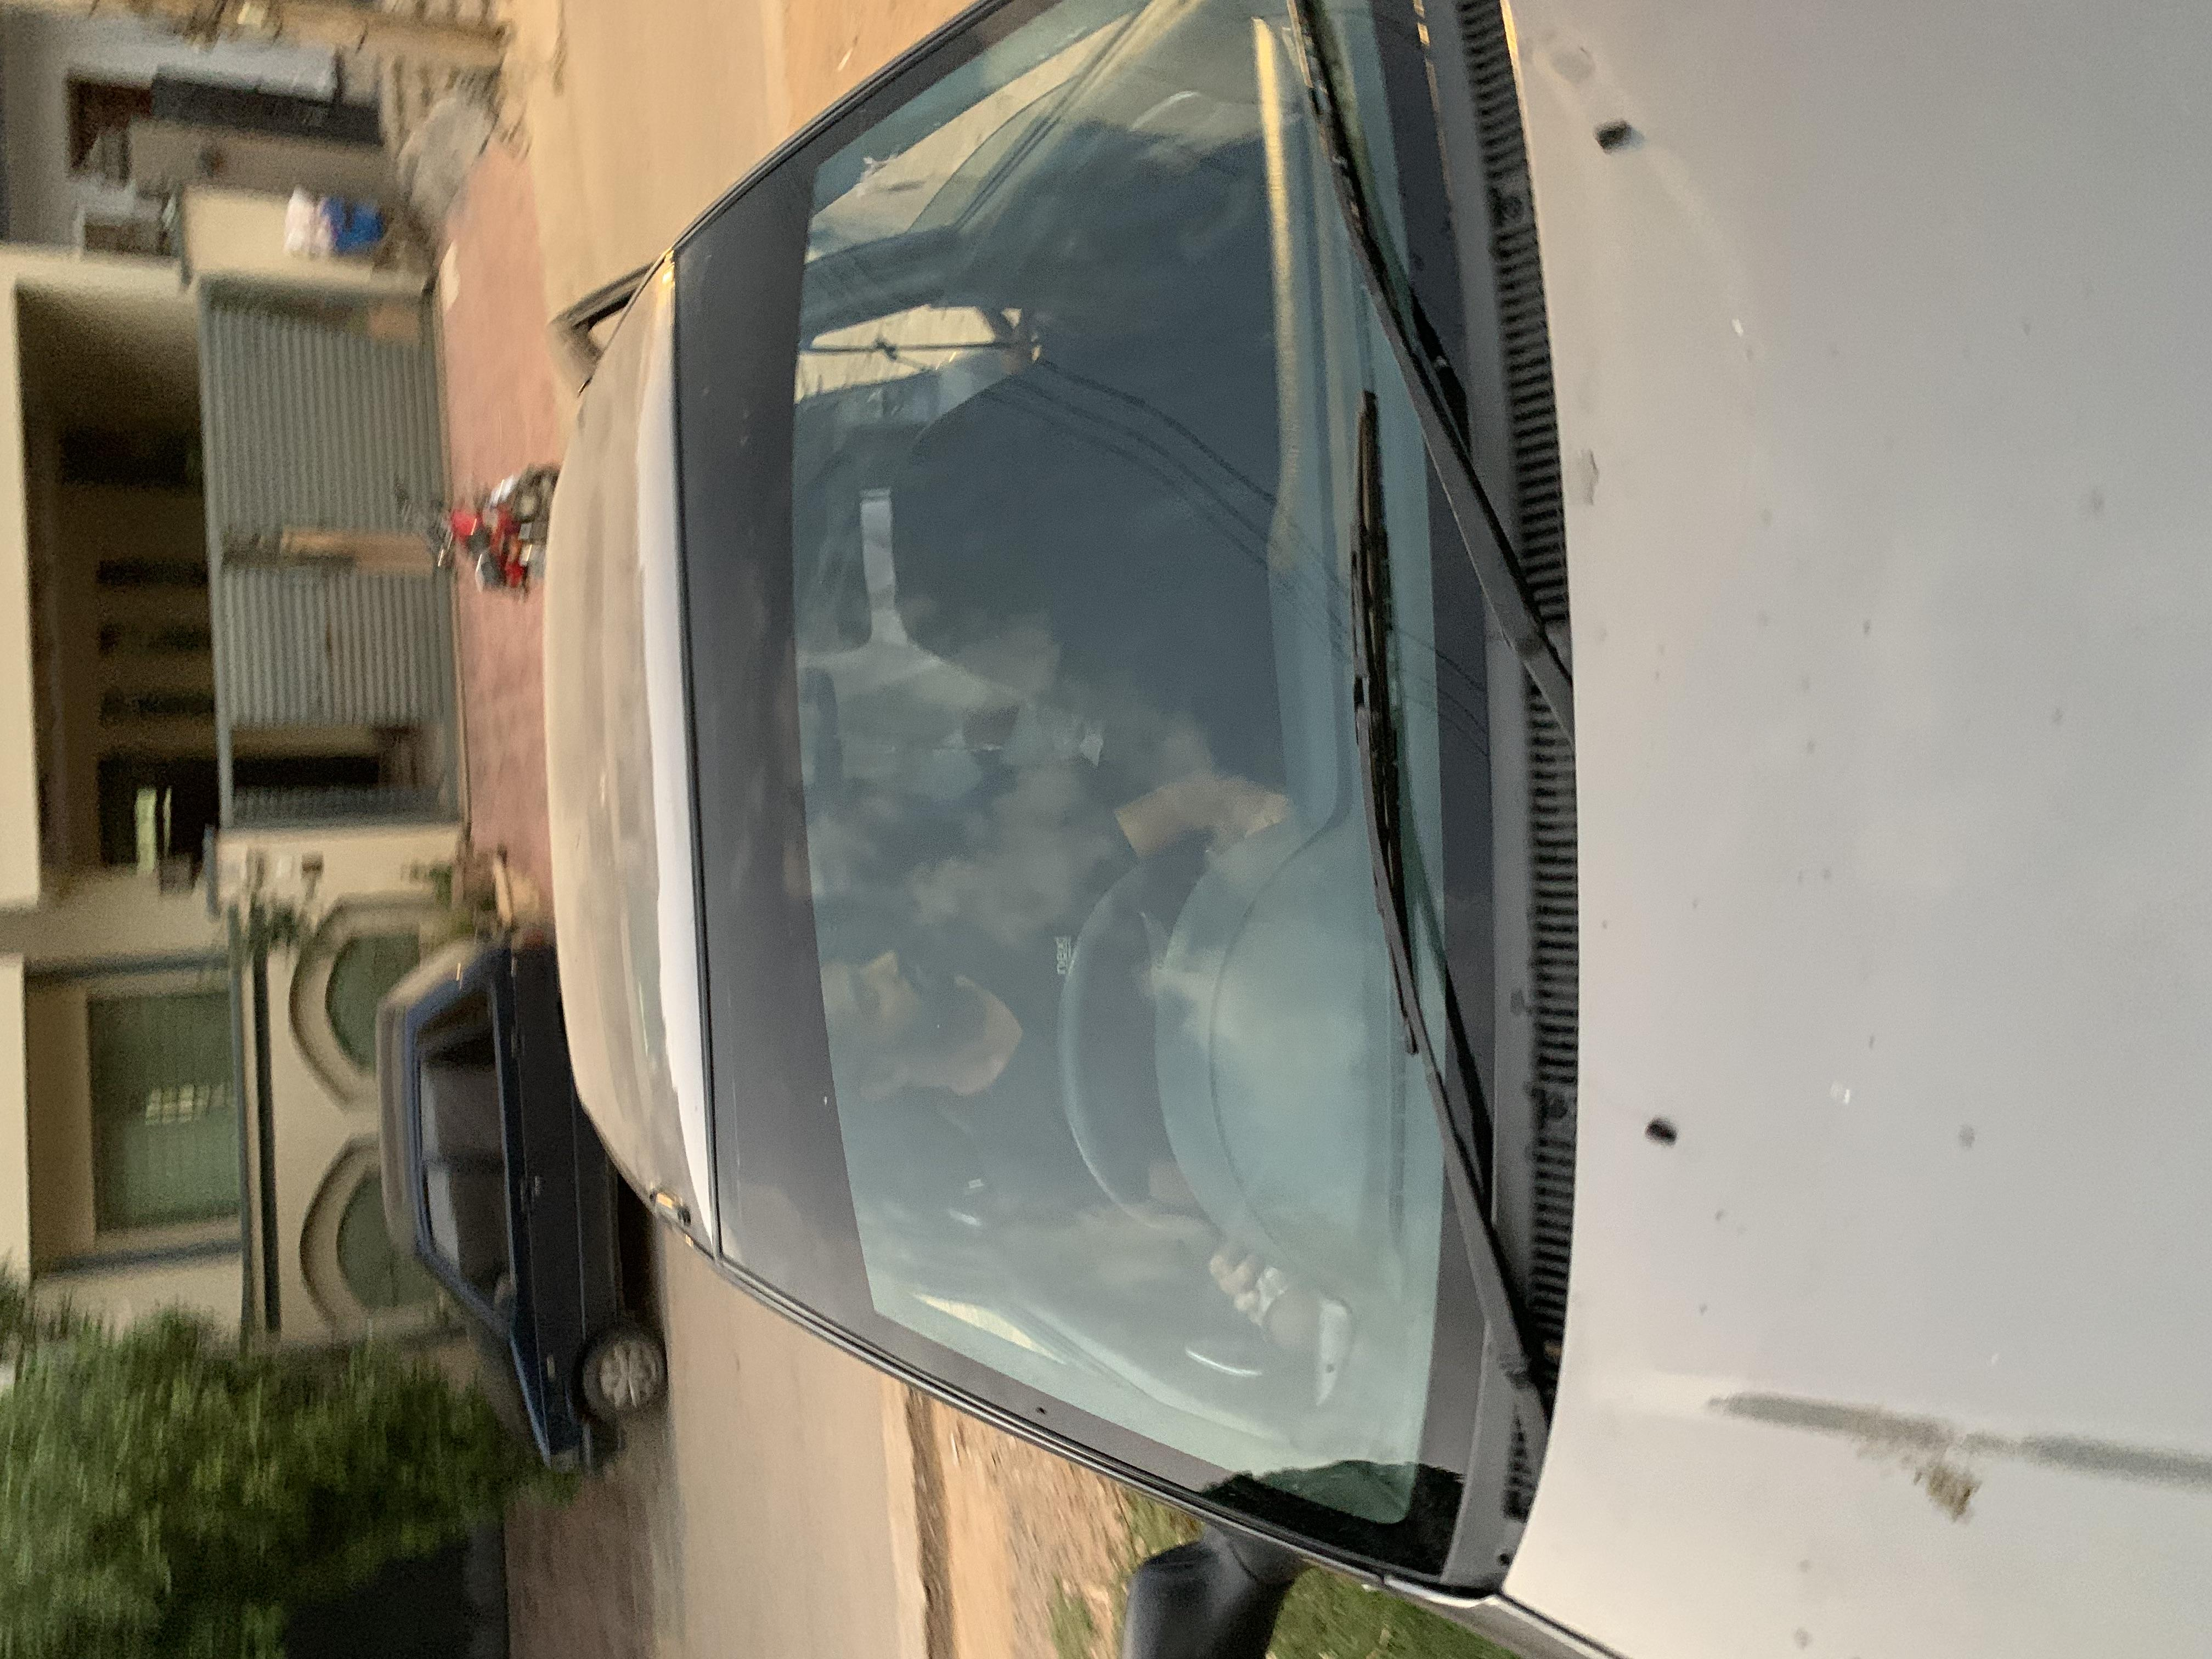windshield: (75, 493, 2203, 1182)
